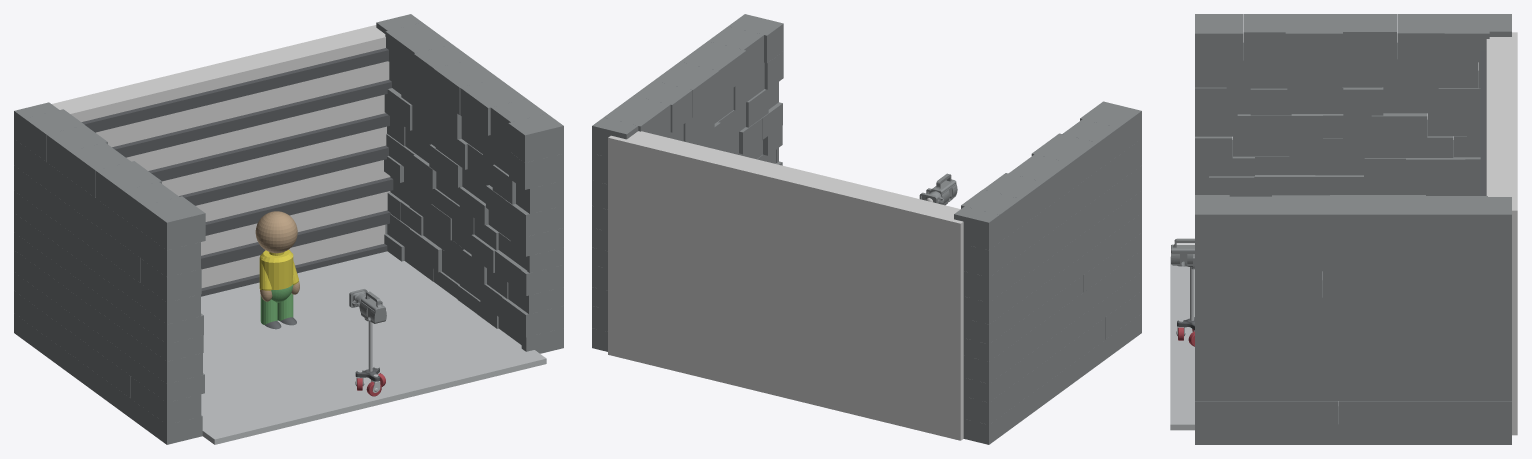
The model's file is mugshot.glb.
The picture shows the model from 3 angles, left to right: view 1: azimuth 30°, elevation 25°; view 2: azimuth 150°, elevation 25°; view 3: azimuth 270°, elevation 25°; orthographic projection. The views are drawn at different scales.
Parts seen in each view (by area): view 1: Mesh_Mesh_head_geo.001_lambert2SG.001; view 2: Mesh_Mesh_head_geo.001_lambert2SG.001; view 3: Mesh_Mesh_head_geo.001_lambert2SG.001.
Part boxes in pixels (left/top/right/bottom): Mesh_Mesh_head_geo.001_lambert2SG.001: left=14, top=14, right=563, bottom=444; Mesh_Mesh_head_geo.001_lambert2SG.001: left=592, top=14, right=1141, bottom=444; Mesh_Mesh_head_geo.001_lambert2SG.001: left=1170, top=14, right=1517, bottom=444.
Size of the model in its own units: 122 by 65 by 88.9.
